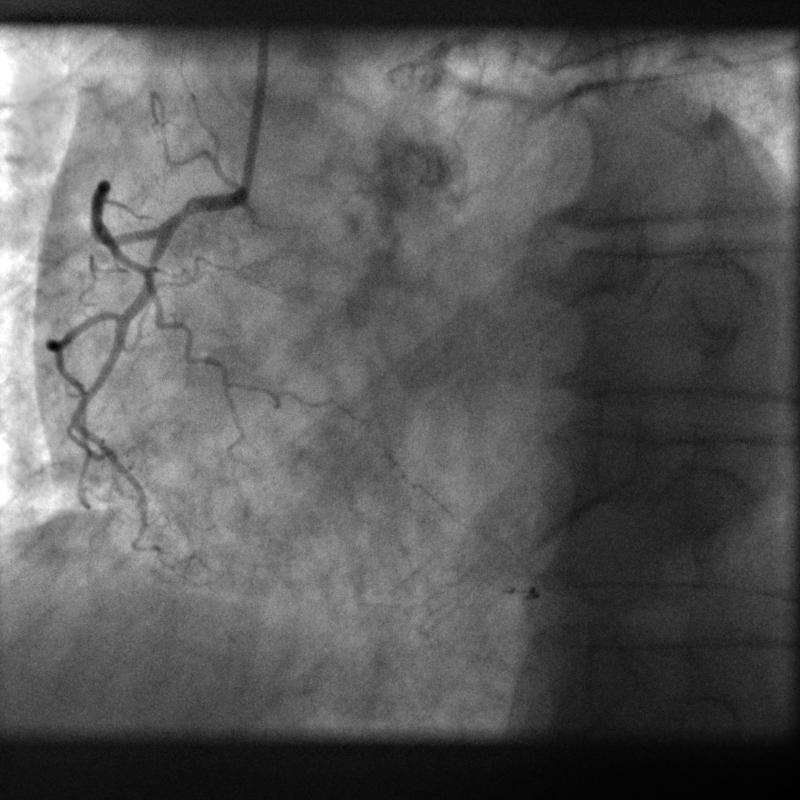Stenosis: (158, 200, 200, 236)
